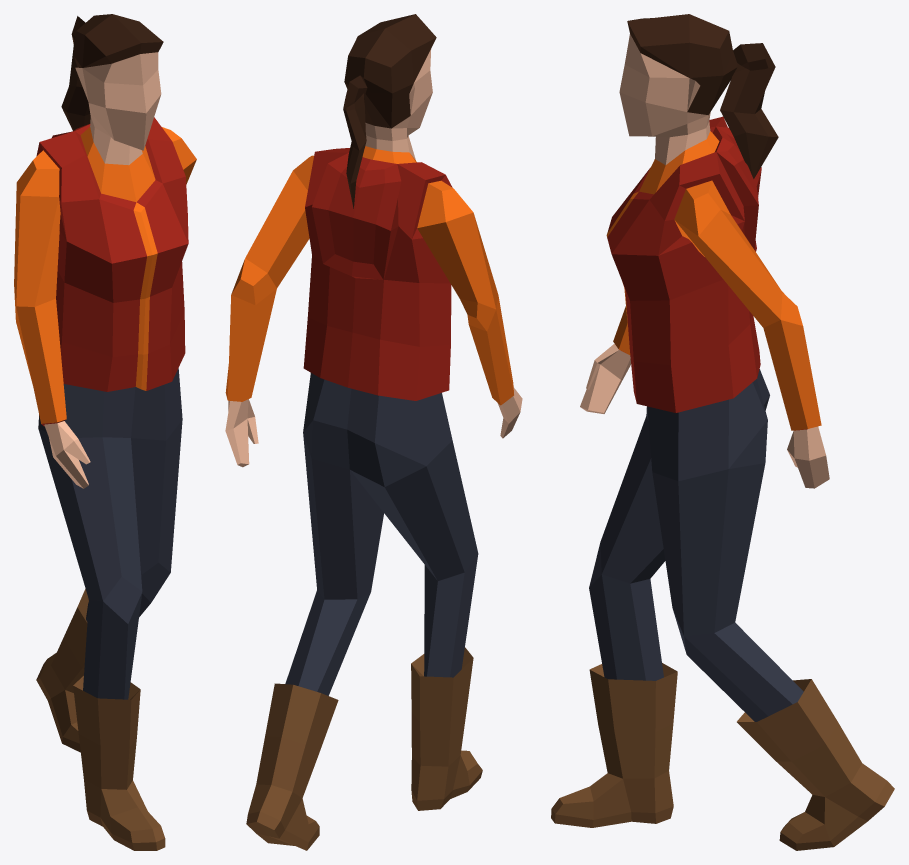
Rendered from AutumnWomanA.004.glb.
3 views of the same model, side by side, from view 1: azimuth 30°, elevation 25°; view 2: azimuth 150°, elevation 25°; view 3: azimuth 270°, elevation 25° (orthographic). The views are drawn at different scales.
Parts seen in each view (by area): view 1: AutumnWomanA.004; view 2: AutumnWomanA.004; view 3: AutumnWomanA.004.
Boxes of the visible parts, x1=… form: AutumnWomanA.004: x1=14, y1=14, x2=196, y2=850; AutumnWomanA.004: x1=225, y1=14, x2=522, y2=850; AutumnWomanA.004: x1=551, y1=14, x2=894, y2=850.
Size of the model in its own units: 0.4639 by 1.68 by 0.6399.
1 material, 1 textured.
